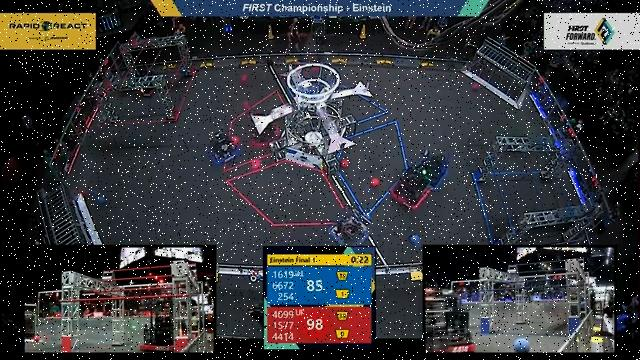Robot: (327, 202, 382, 247), (389, 165, 430, 212), (242, 107, 283, 150), (204, 121, 243, 166), (413, 147, 454, 189), (131, 59, 163, 103)
